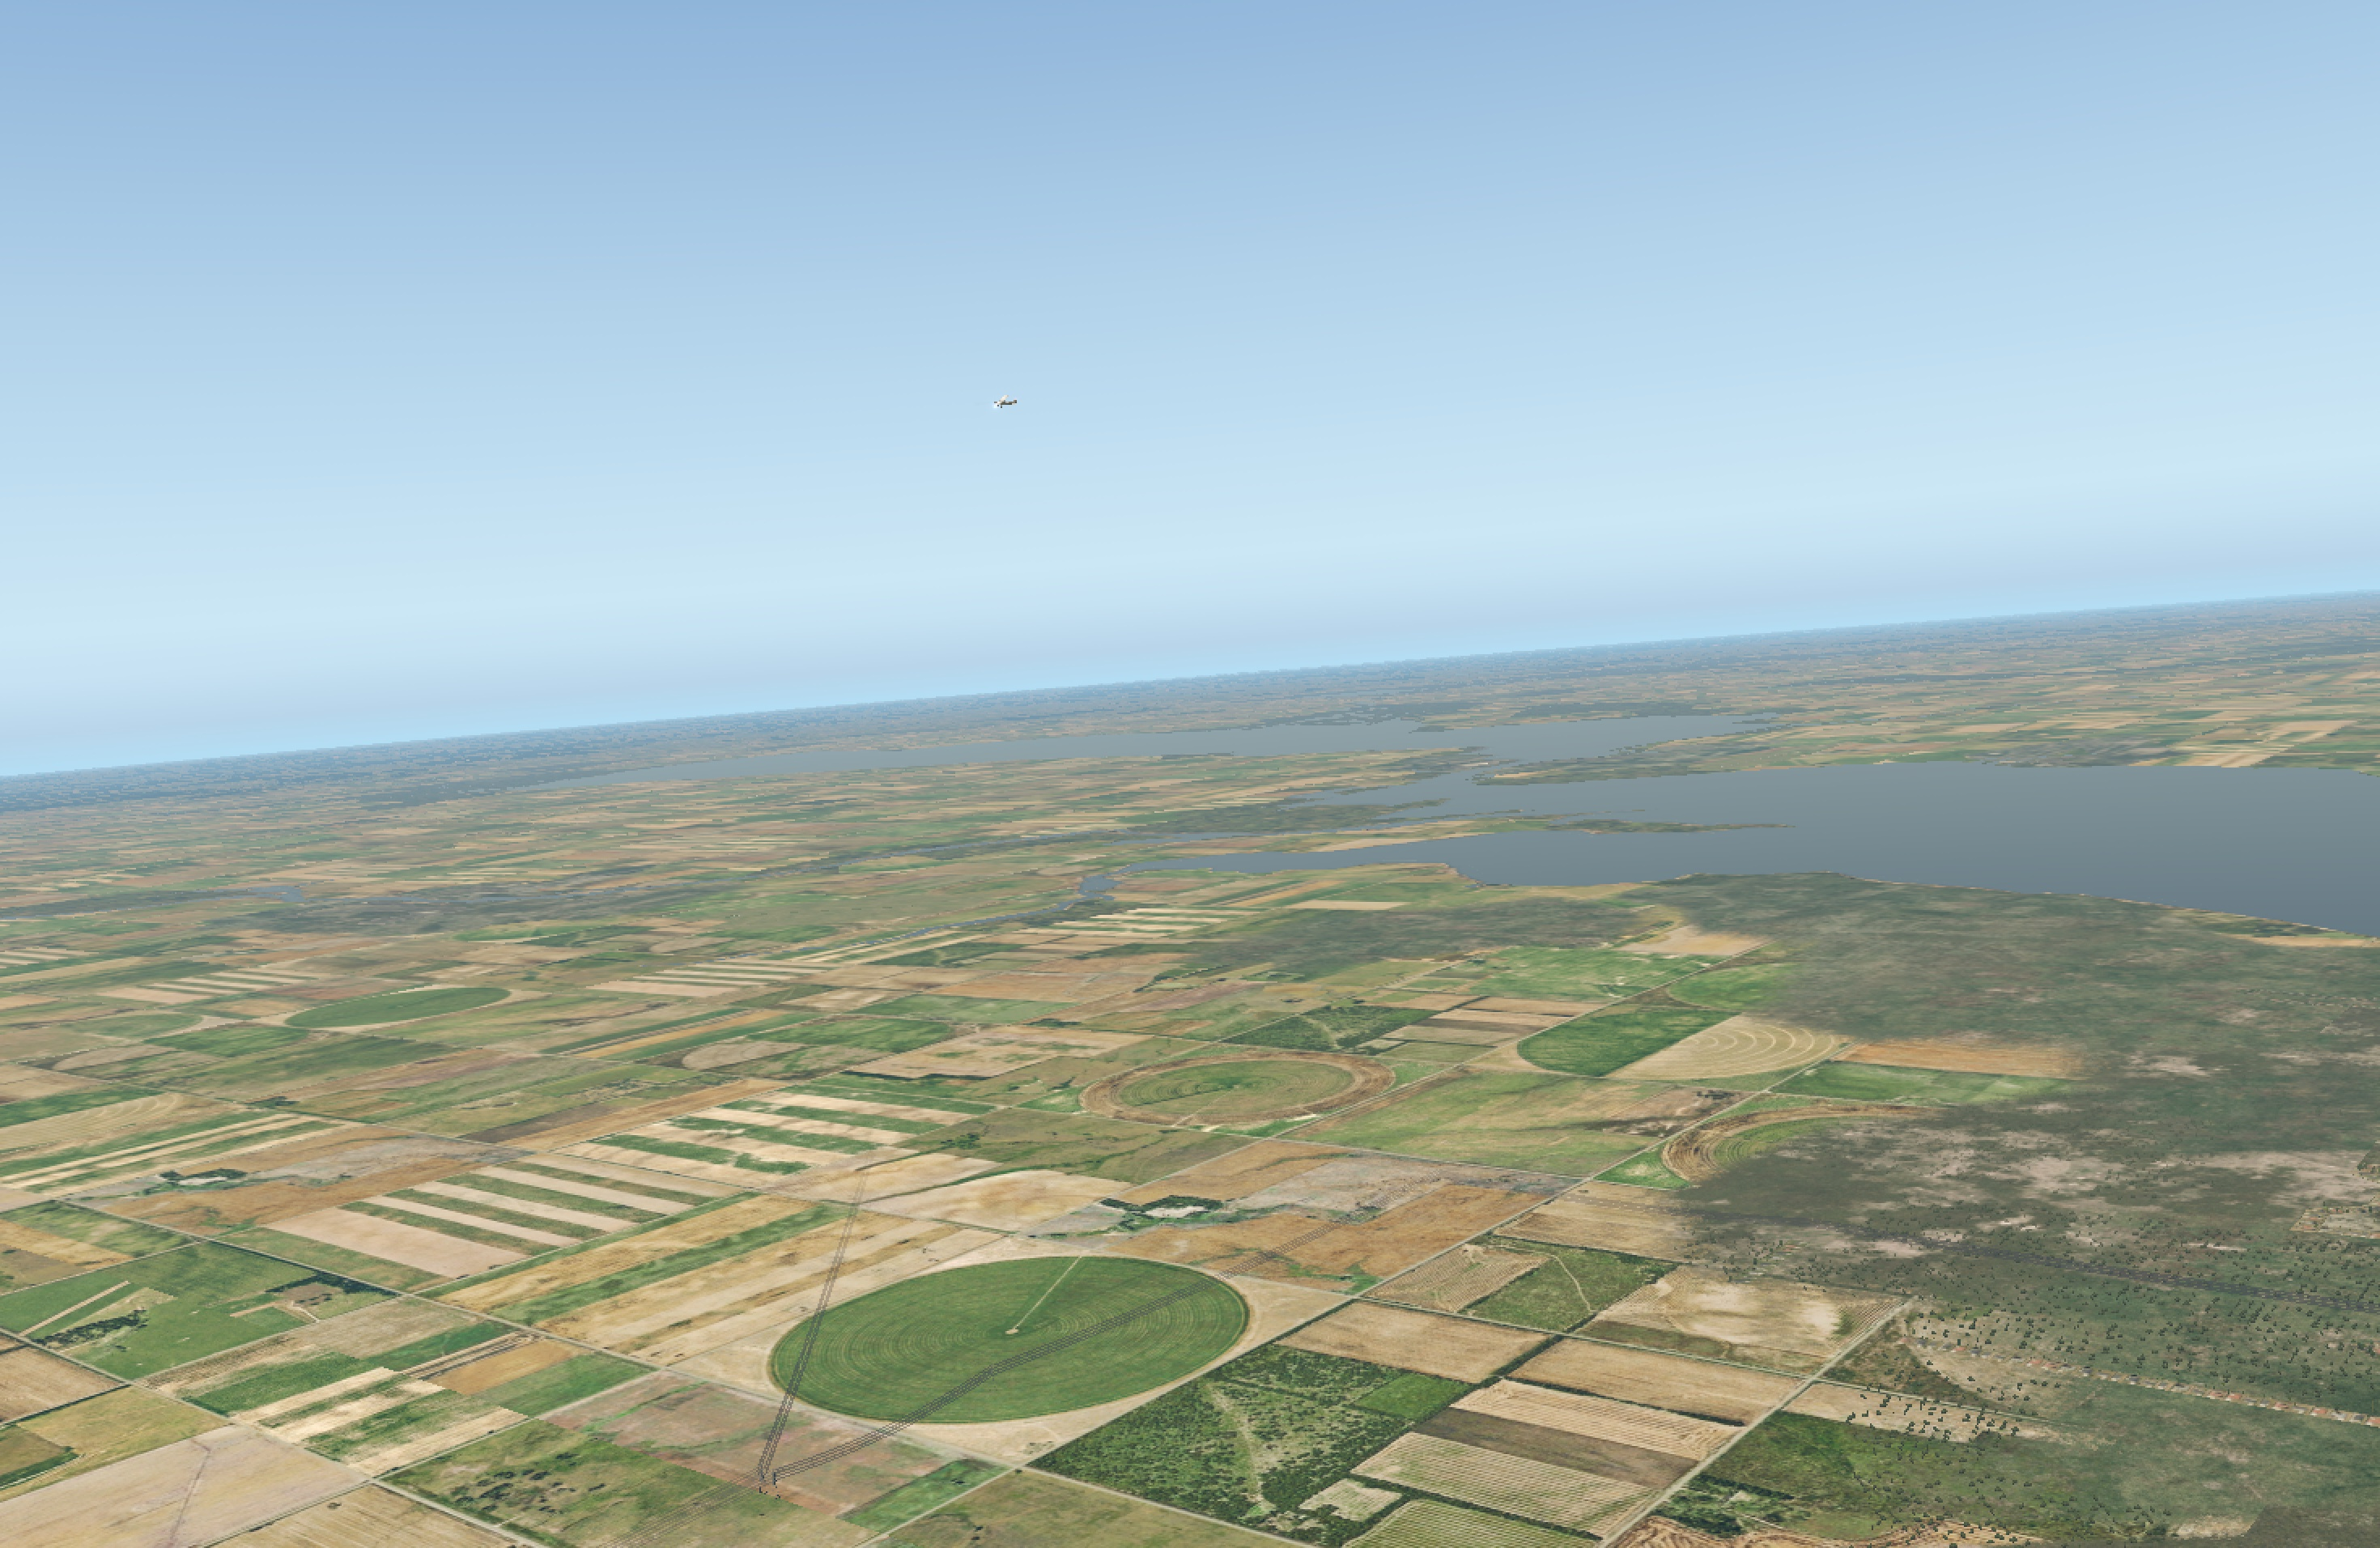aircraft: (989, 397, 1013, 406)
